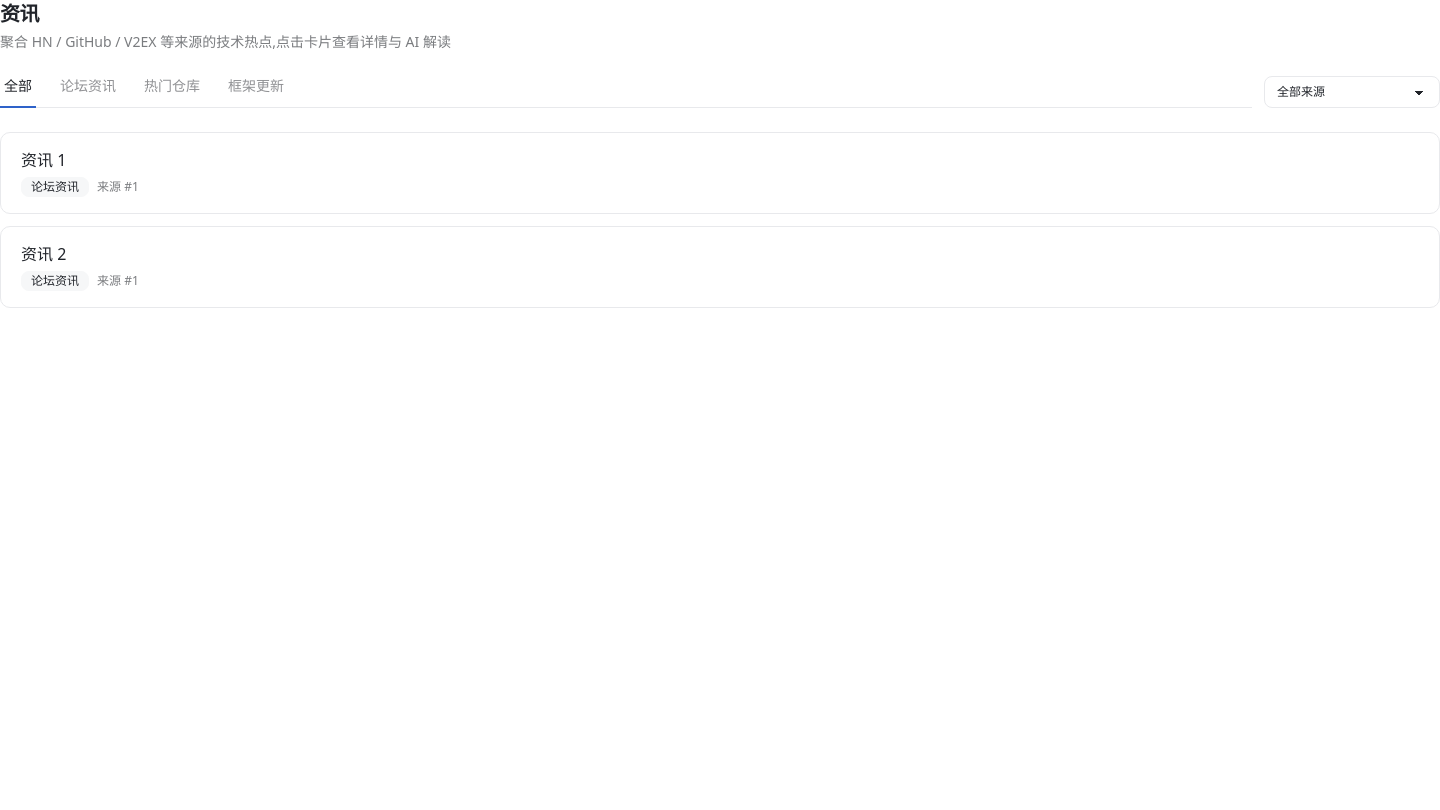
Test: AiPanel 显式 :key › 正常关闭弹窗后再打开另一条资讯,面板按新条目初始化(既有行为保持)
Click the button "资讯 1 论坛资讯 来源 #1" at (44, 160), box [0,132,1439,214]
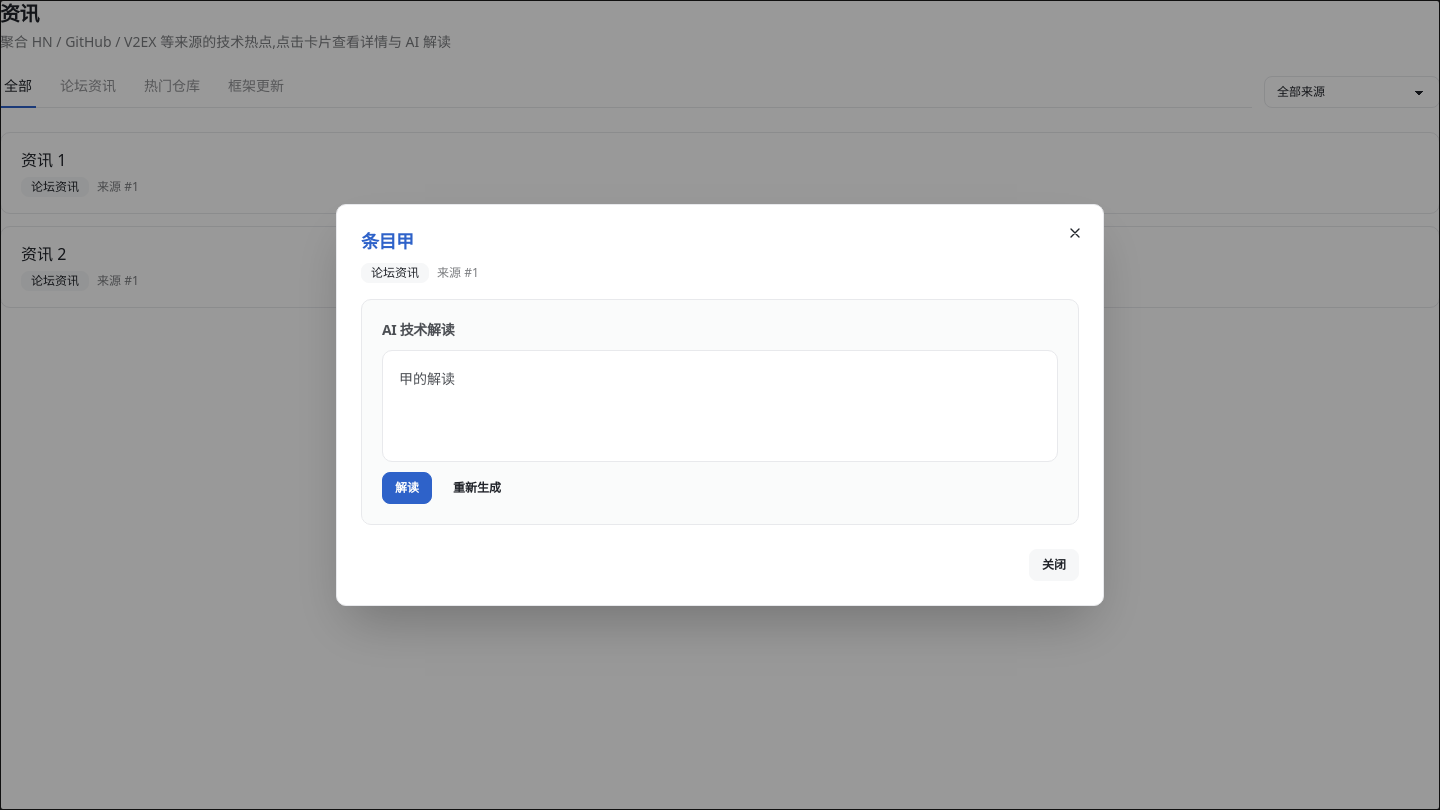
Expected: the element with class "modal-box" shows "甲的解读", [399,369,455,388]
Click the button "关闭" at (1054, 565), box [1029,549,1079,581]
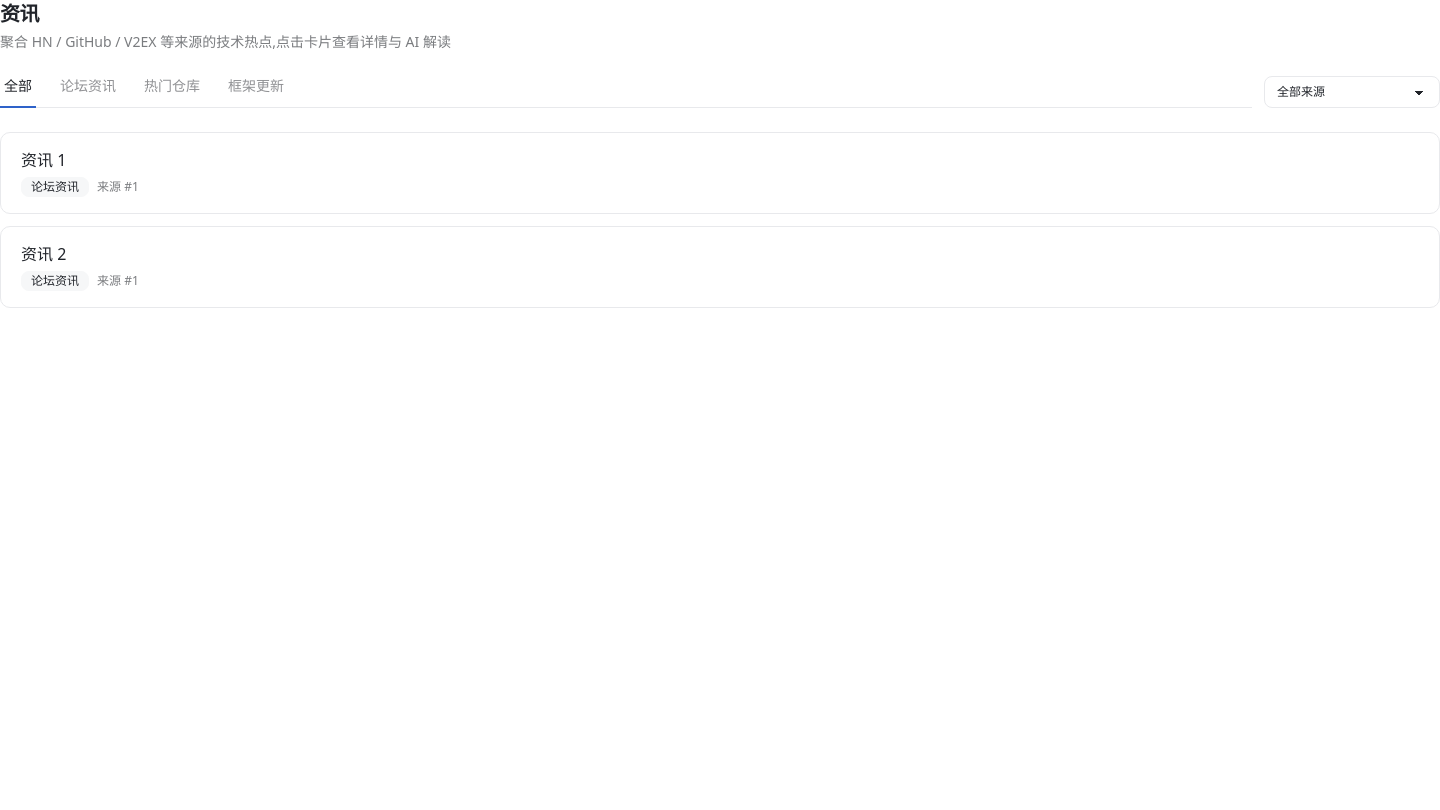
Expected: the text "甲的解读" is gone
Click the button "资讯 2 论坛资讯 来源 #1" at (44, 254), box [0,226,1439,308]
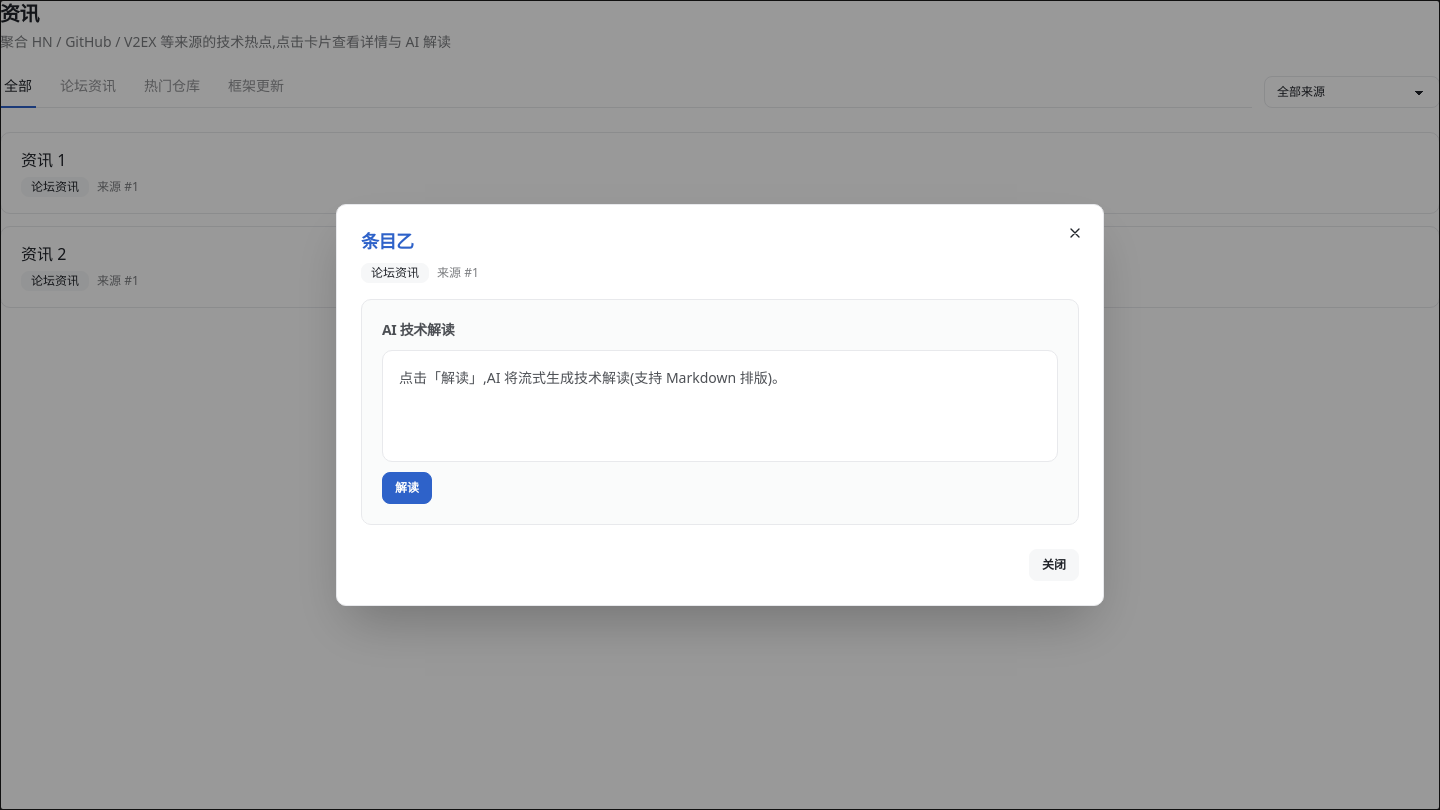
Expected: the text with class "modal-box" does not show "甲的解读"
Expected: the element with class "modal-box" shows "点击「解读」", [399,368,786,387]
